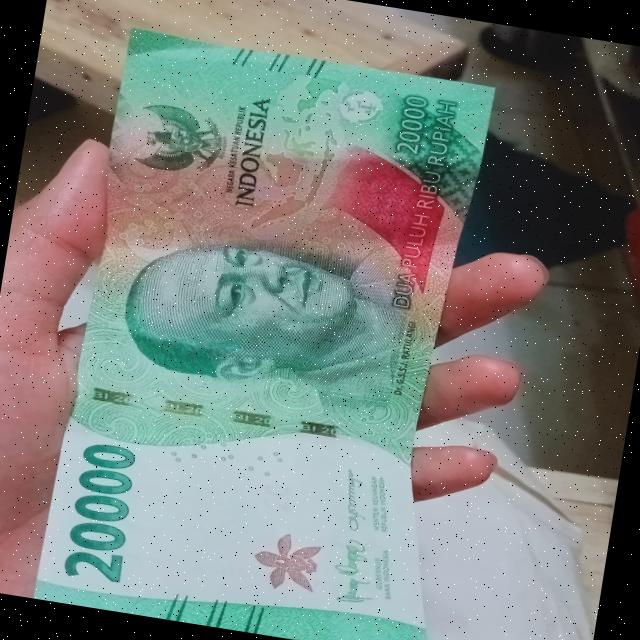20K: (22, 16, 527, 640)
